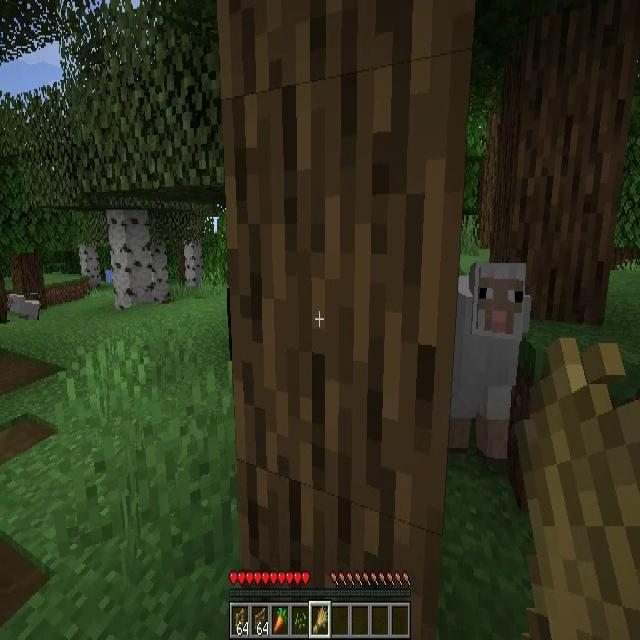sheep: (444, 266, 531, 462), (8, 294, 40, 320)
